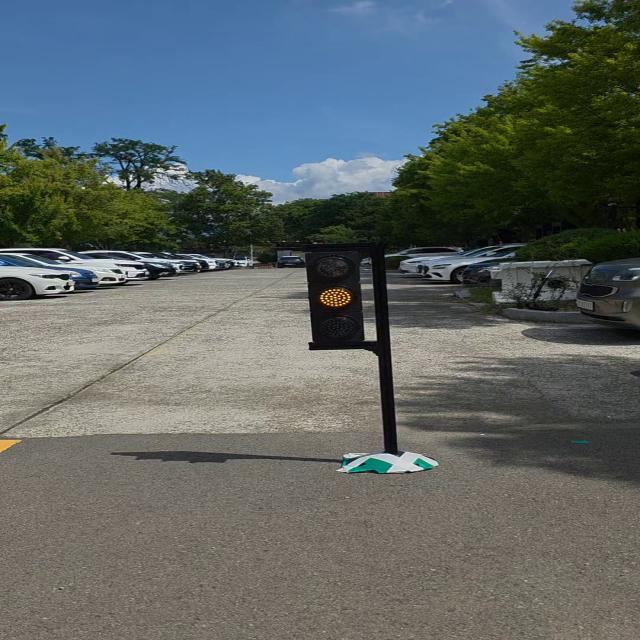yellow: (302, 252, 371, 350)
